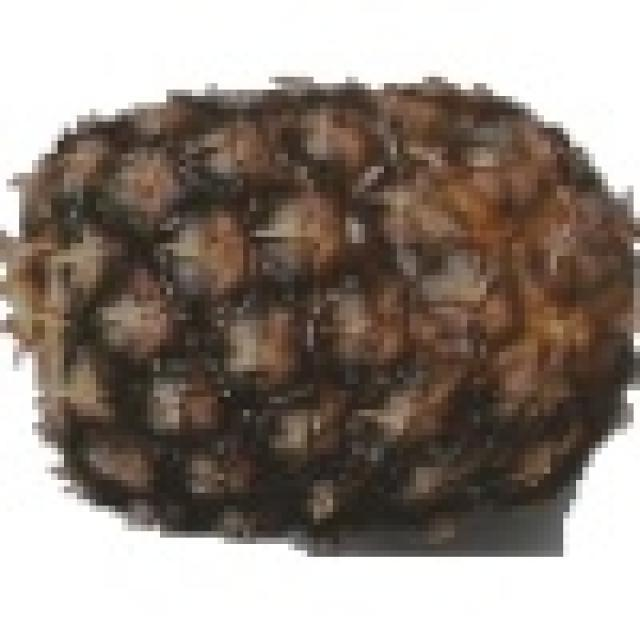pineapple: (6, 70, 614, 518)
